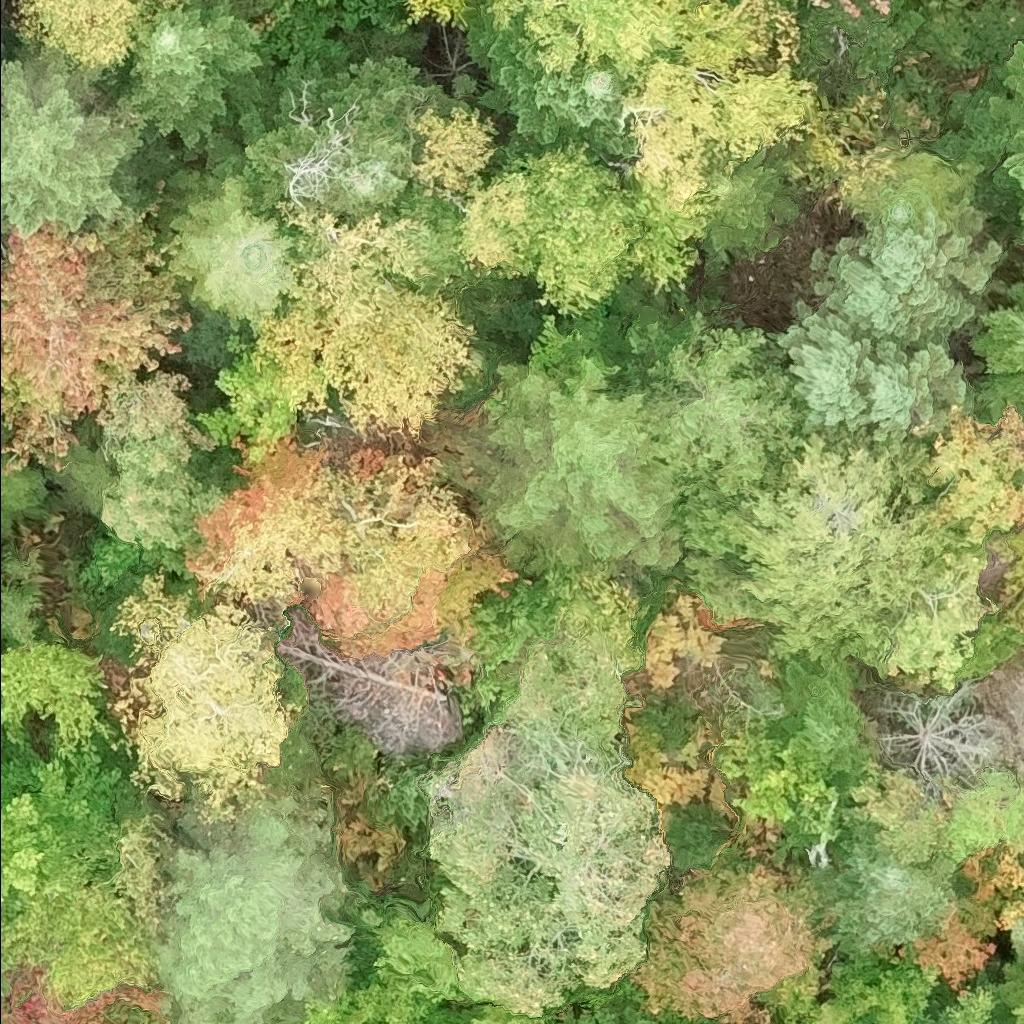crown: (417, 643, 670, 1020), (667, 420, 988, 683), (248, 200, 487, 444), (102, 565, 302, 820), (0, 225, 197, 474), (152, 785, 357, 1023), (468, 356, 682, 575), (308, 450, 522, 661), (617, 0, 820, 214), (185, 431, 414, 602), (238, 49, 468, 219), (615, 311, 809, 502), (626, 857, 842, 1023), (449, 136, 644, 319), (100, 0, 278, 180), (144, 132, 302, 334), (0, 41, 146, 247), (463, 6, 638, 163), (93, 368, 232, 553), (0, 732, 123, 918), (853, 204, 1009, 334), (0, 879, 157, 1008), (928, 43, 1023, 244), (478, 0, 686, 90), (809, 840, 959, 955), (811, 236, 958, 349), (0, 641, 128, 760), (191, 332, 301, 464), (768, 301, 876, 432), (841, 136, 985, 232), (771, 653, 873, 787), (8, 0, 153, 87), (704, 143, 802, 259), (86, 810, 173, 937), (857, 336, 974, 429), (964, 267, 1023, 416), (827, 946, 939, 1023), (408, 104, 501, 196), (895, 913, 997, 990), (0, 452, 56, 540), (956, 620, 1017, 686), (289, 0, 409, 33), (935, 985, 1003, 1023), (993, 952, 1023, 1023), (404, 0, 478, 28), (614, 1000, 698, 1023), (460, 1000, 540, 1023), (796, 999, 861, 1023), (0, 943, 17, 1023), (800, 0, 863, 18), (149, 0, 179, 11), (1012, 618, 1023, 642), (868, 0, 891, 11), (0, 41, 9, 58), (0, 427, 7, 444), (773, 1022, 782, 1023)
